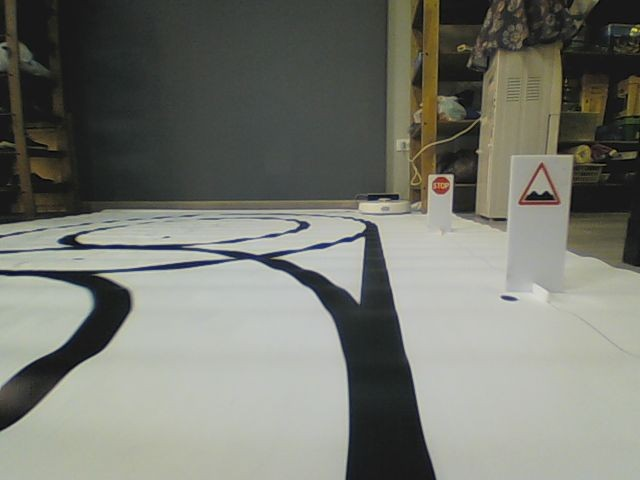Nerov: (516, 160, 561, 207)
Stop: (431, 176, 451, 195)
